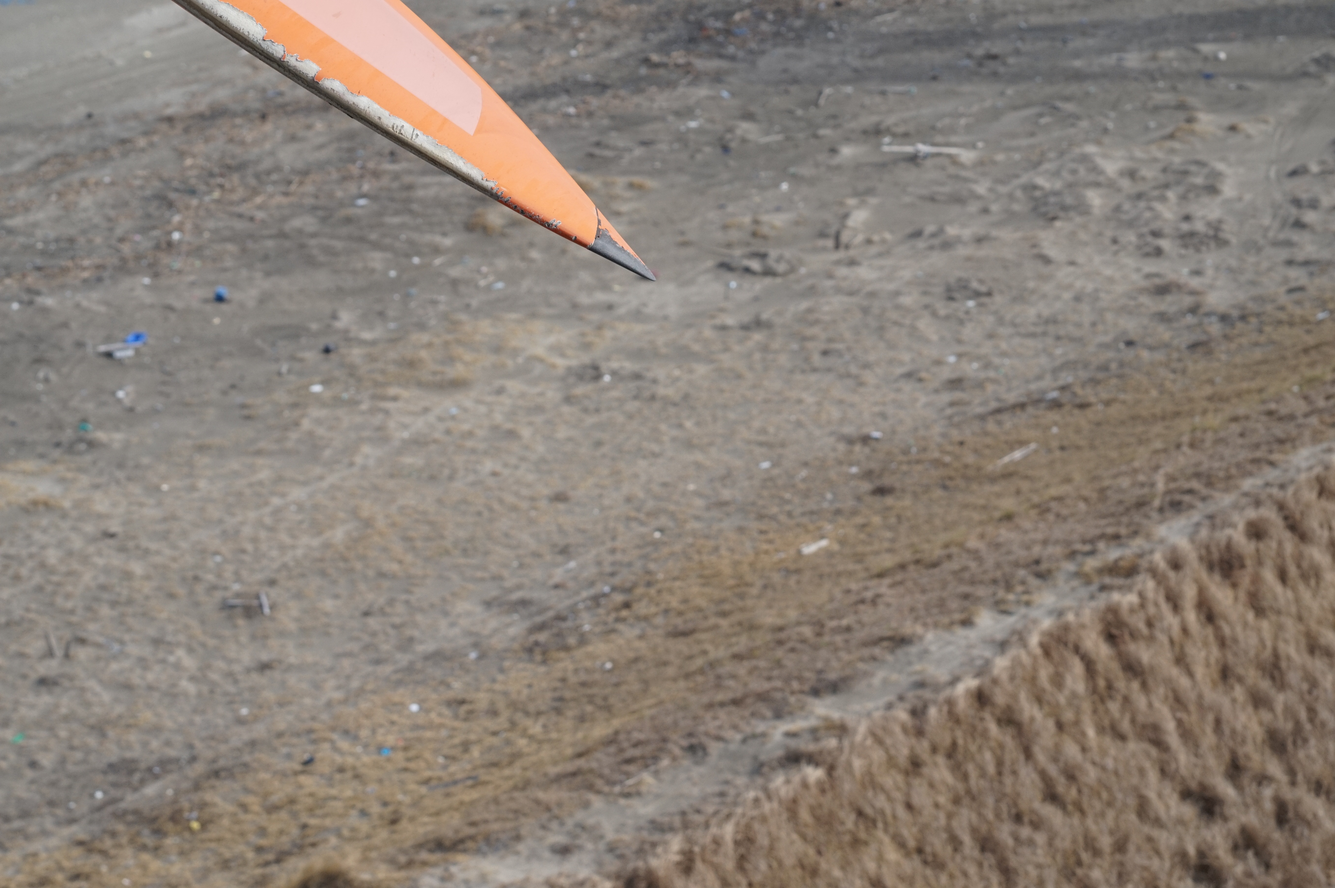Damage: (177, 5, 504, 195), (509, 194, 565, 232)
